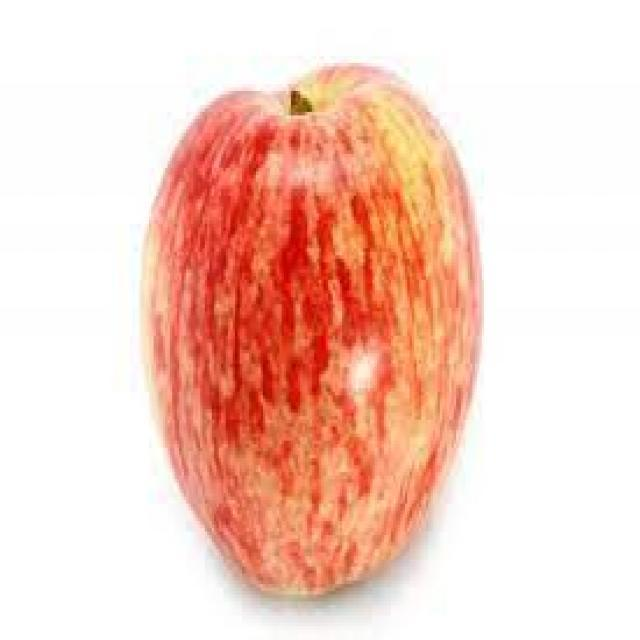Fresh Apple: (162, 68, 463, 590)
